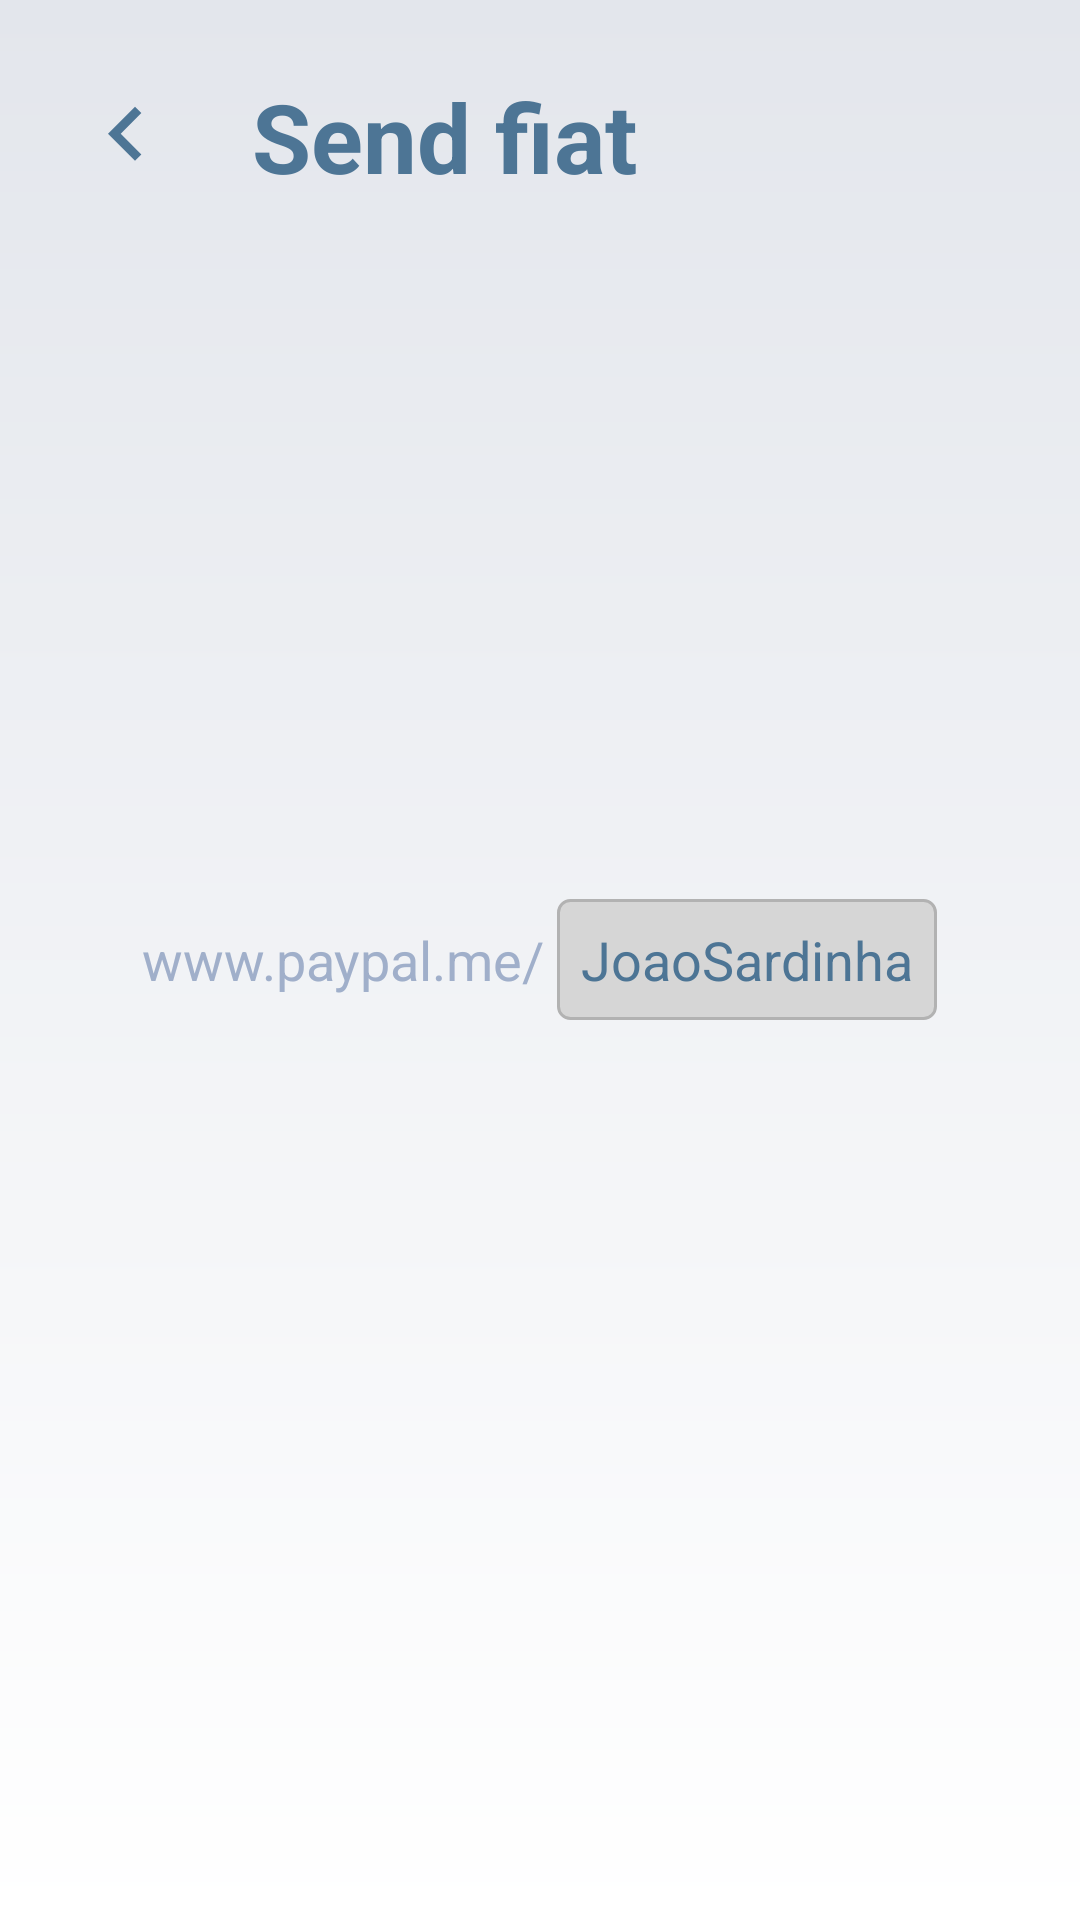

Icon bounding boxes for this 1080w x 1920h phone screenshot, format (x1, y1, x2, y2):
keyboard arrow left: (108, 107, 141, 161)
